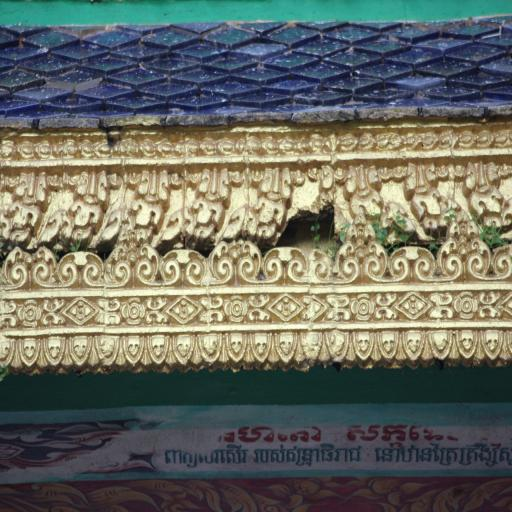hoa: (171, 294, 199, 323), (453, 289, 477, 322), (275, 294, 301, 324), (67, 299, 95, 325), (18, 300, 43, 329), (400, 291, 426, 318), (351, 292, 374, 322), (227, 293, 248, 324), (124, 299, 144, 324)
la: (333, 206, 388, 282), (57, 170, 112, 243), (102, 224, 162, 287), (438, 210, 490, 280), (247, 166, 292, 242), (1, 174, 49, 244), (184, 168, 230, 238), (404, 163, 449, 229), (462, 162, 504, 220), (4, 242, 58, 287), (128, 171, 171, 226), (211, 241, 261, 284), (388, 246, 437, 285), (162, 246, 210, 284), (344, 166, 379, 216), (262, 246, 310, 282), (58, 250, 102, 286), (300, 295, 352, 323), (193, 332, 222, 372), (296, 333, 324, 374), (119, 334, 146, 376), (453, 328, 479, 371), (92, 334, 119, 374), (424, 330, 453, 366), (245, 334, 272, 372), (398, 331, 424, 370), (272, 330, 296, 371), (349, 331, 374, 370), (479, 326, 502, 368), (66, 336, 91, 374), (146, 336, 170, 375), (326, 331, 349, 371), (170, 334, 194, 372), (224, 332, 246, 372), (41, 338, 65, 374), (374, 290, 399, 324), (18, 338, 40, 376), (198, 296, 227, 324), (427, 290, 454, 320), (376, 332, 398, 368), (144, 296, 170, 326), (248, 295, 273, 325), (95, 299, 124, 324), (477, 290, 502, 318), (0, 337, 16, 378), (43, 297, 64, 328), (0, 299, 19, 328)
